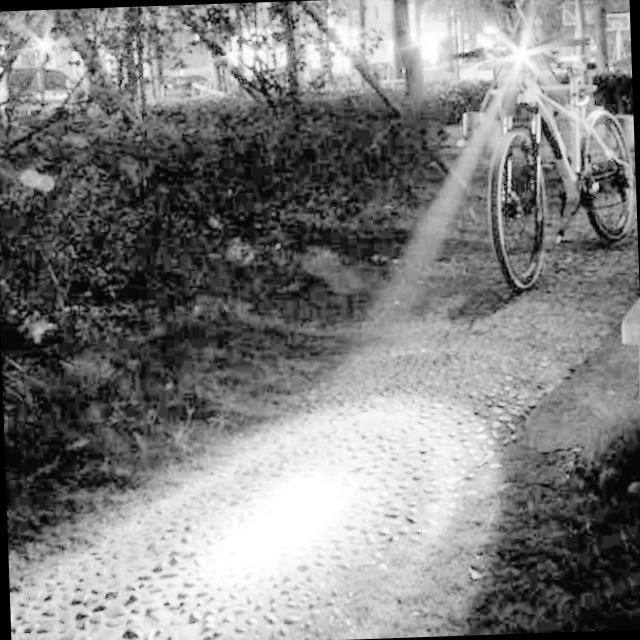Bicycle: (441, 20, 639, 284)
